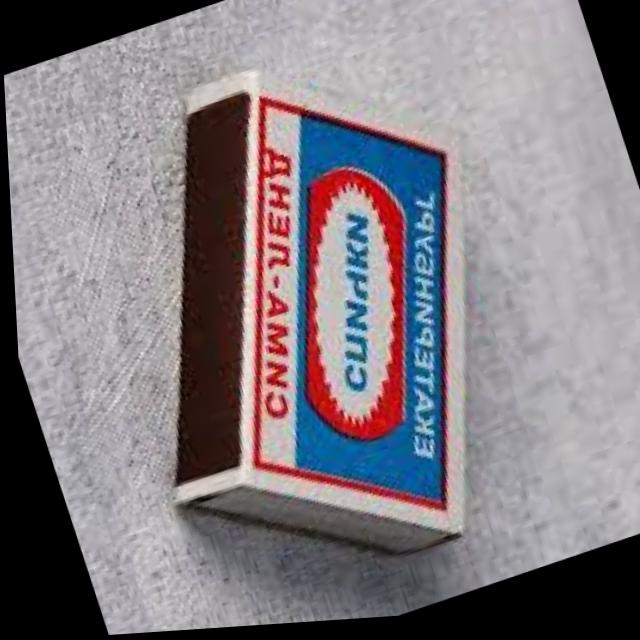match: (45, 4, 580, 637)
